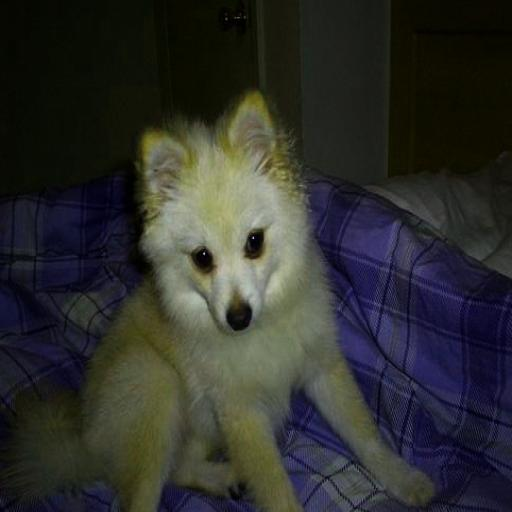dog_face: (137, 96, 290, 328)
